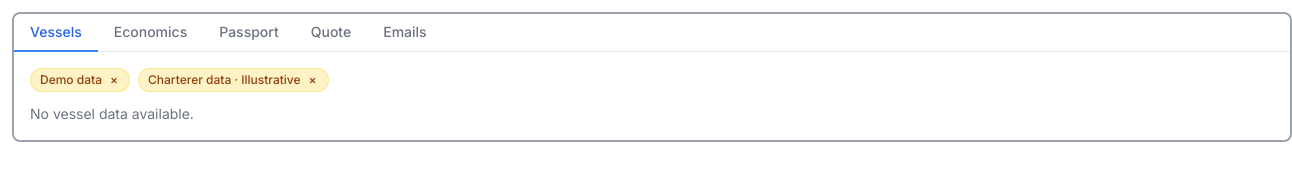
Test: MatchTabs › tab navigation › switches to Passport tab on click
The image size is (1292, 172).
Click the tab "Passport".
click(249, 33)  # box [203,14,295,52]
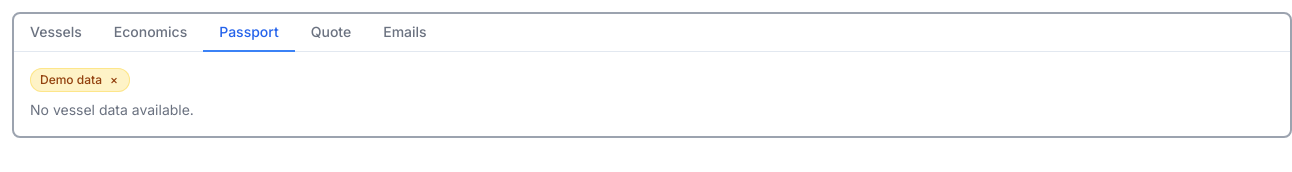
Expected: the element with test id "tab-passport" is shown, [30,68,194,118]
